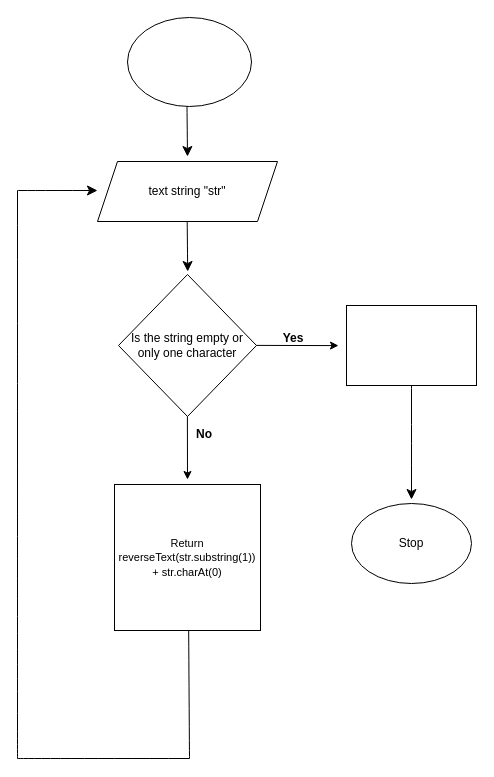
The diagram is 494 pixels wide and 777 high, and some of its shapes have lost their labels. Each missing label, with the centre of its shape:
"Base case achieved, return the call stack." goes at [411,345].
"Start function reverseText()" goes at [189,61].
